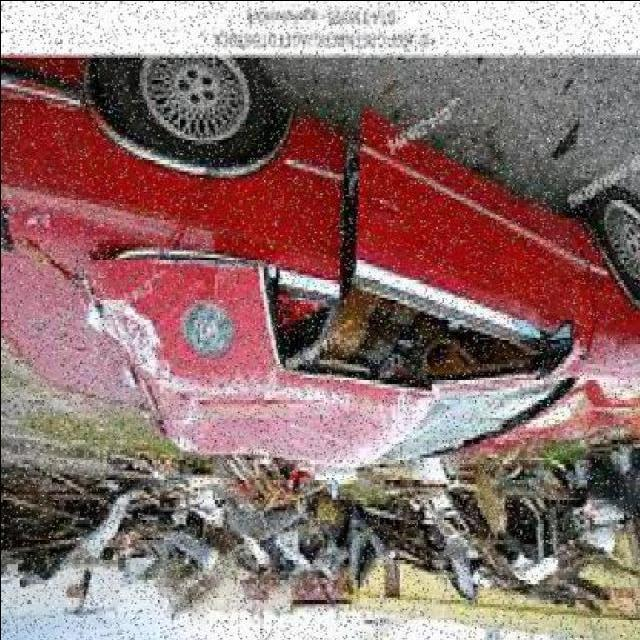roof-dent: (111, 324, 420, 468)
